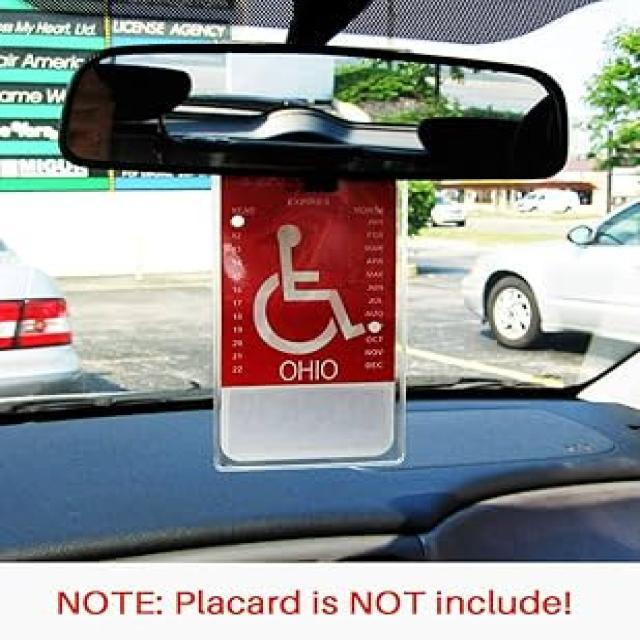symbol_of_access: (245, 213, 382, 359)
